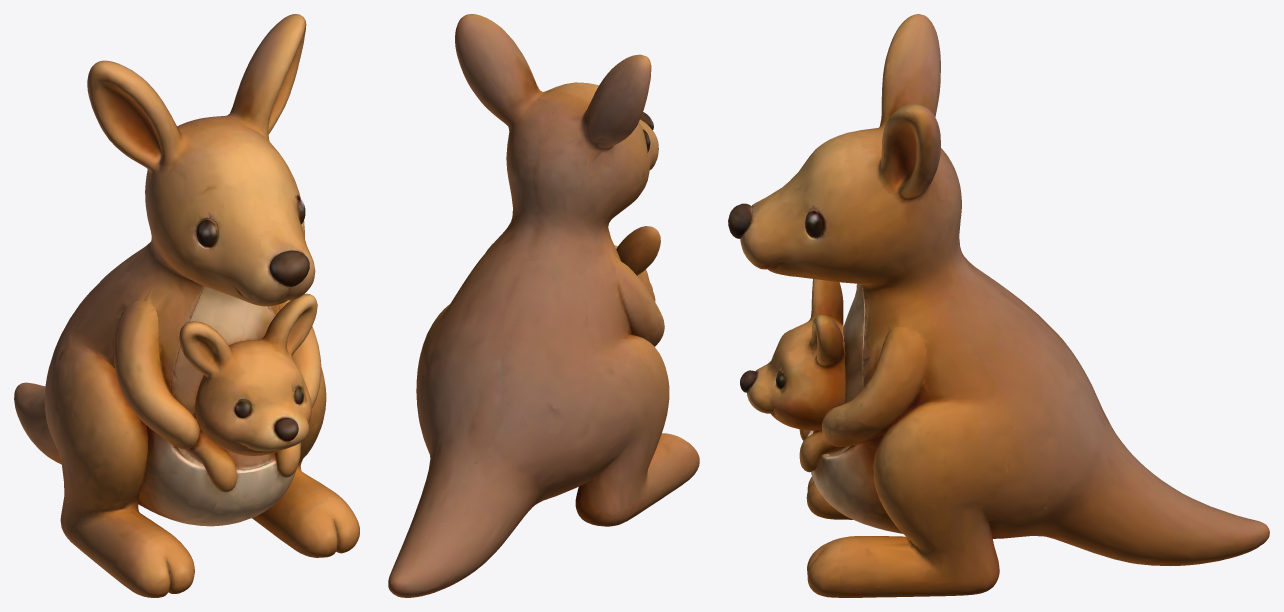
File: kangaroo_pbr.glb
The picture shows the model from 3 angles, left to right: view 1: azimuth 30°, elevation 25°; view 2: azimuth 150°, elevation 25°; view 3: azimuth 270°, elevation 25°; orthographic projection. The views are drawn at different scales.
Parts seen in each view (by area): view 1: model.009; view 2: model.009; view 3: model.009.
Boxes of the visible parts, bbox=[...] form: model.009: bbox=[14, 14, 359, 597]; model.009: bbox=[388, 14, 699, 597]; model.009: bbox=[728, 14, 1269, 597].
Bounding box in the file's own units: 0.8865 × 1.76 × 1.72.
Materials: 1 (1 with a texture image).
